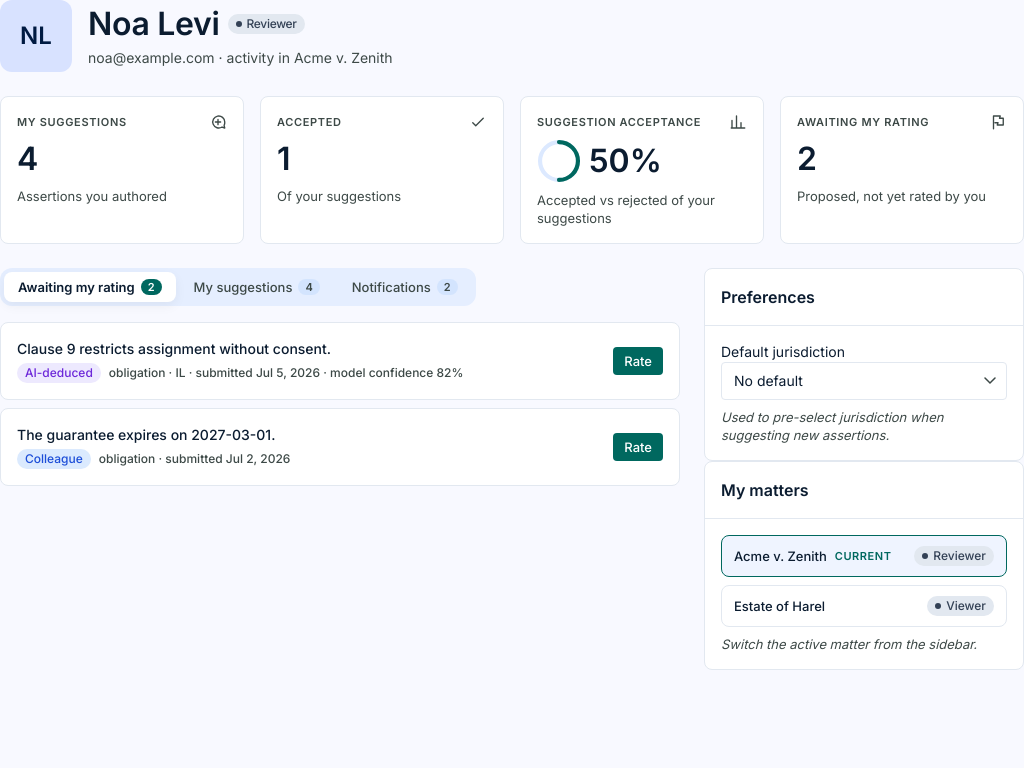
Test: ProfilePage › shows my authored assertions with status and standing badges, excluding colleagues'
Expected: the text with test id "pf-stat-suggestions" is shown, [17,139,38,178]
Click the tab "My suggestions 4".
click(257, 287)  # box [180,272,334,302]
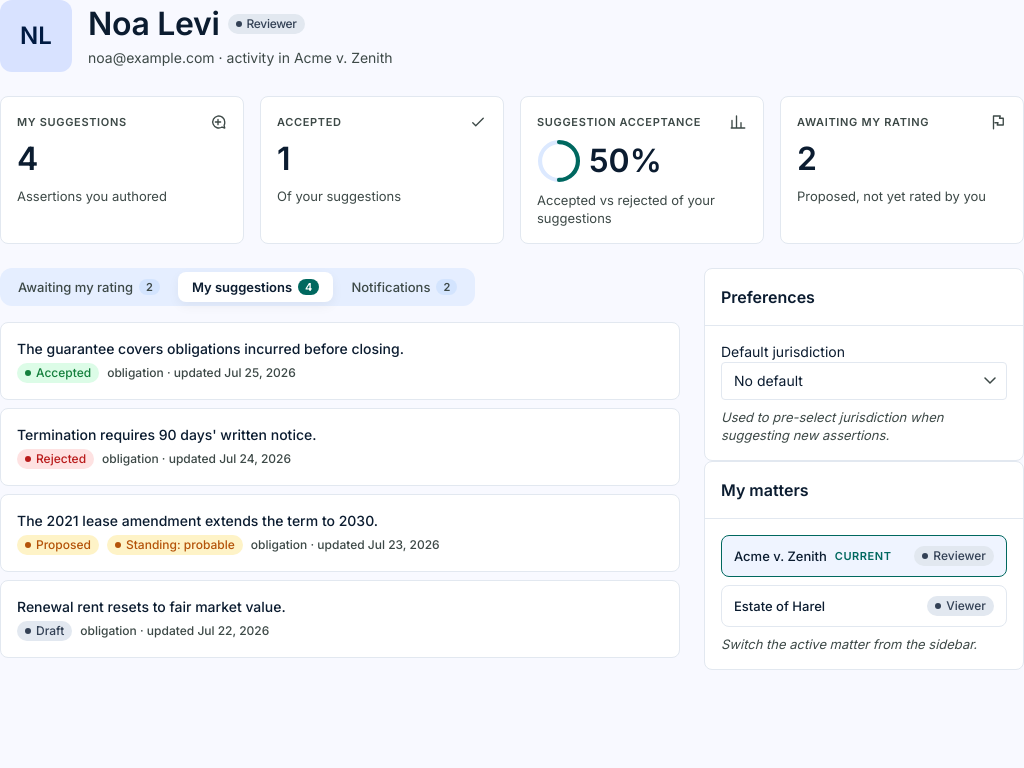
Expected: the text "Accepted" in the row of "Jul 25, 2026" is shown, [36,365,91,380]
Expected: the text "Rejected" is shown, [17,449,94,469]
Expected: the text "Proposed" is shown, [17,535,99,555]
